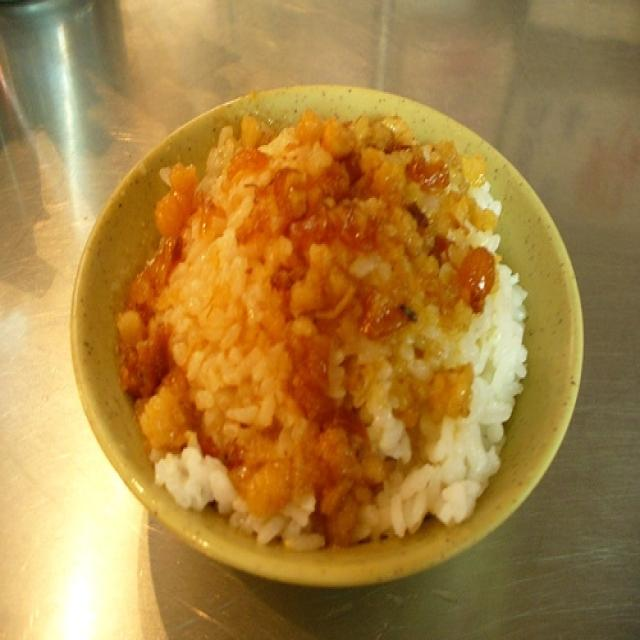猪肉菜式: (73, 92, 571, 567)
